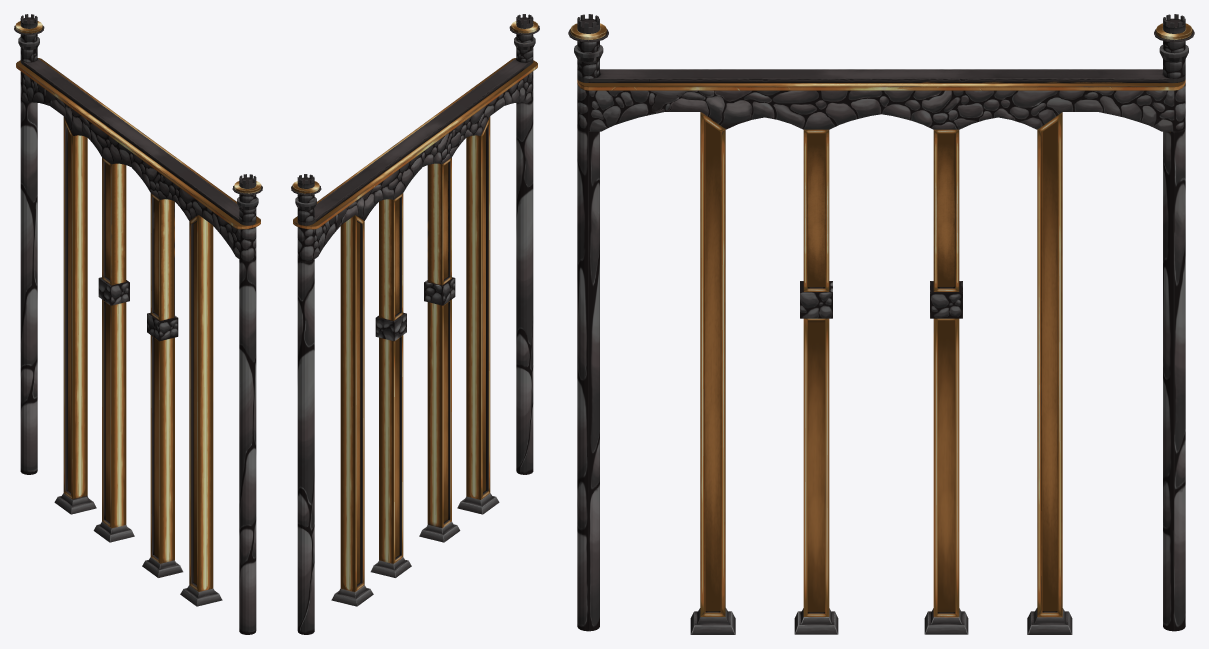
The model's file is Wall_2Finishedtall.fbx.
The picture shows the model from 3 angles, left to right: view 1: azimuth 30°, elevation 25°; view 2: azimuth 150°, elevation 25°; view 3: azimuth 270°, elevation 25°; orthographic projection. The views are drawn at different scales.
Parts seen in each view (by area): view 1: Cylinder.002; view 2: Cylinder.002; view 3: Cylinder.002.
Part boxes in pixels (box(x1,y1,x2,y2)): Cylinder.002: box(14, 14, 262, 634); Cylinder.002: box(291, 14, 539, 634); Cylinder.002: box(568, 14, 1194, 634).
Size of the model in its own units: 1407 by 23140 by 21615.
